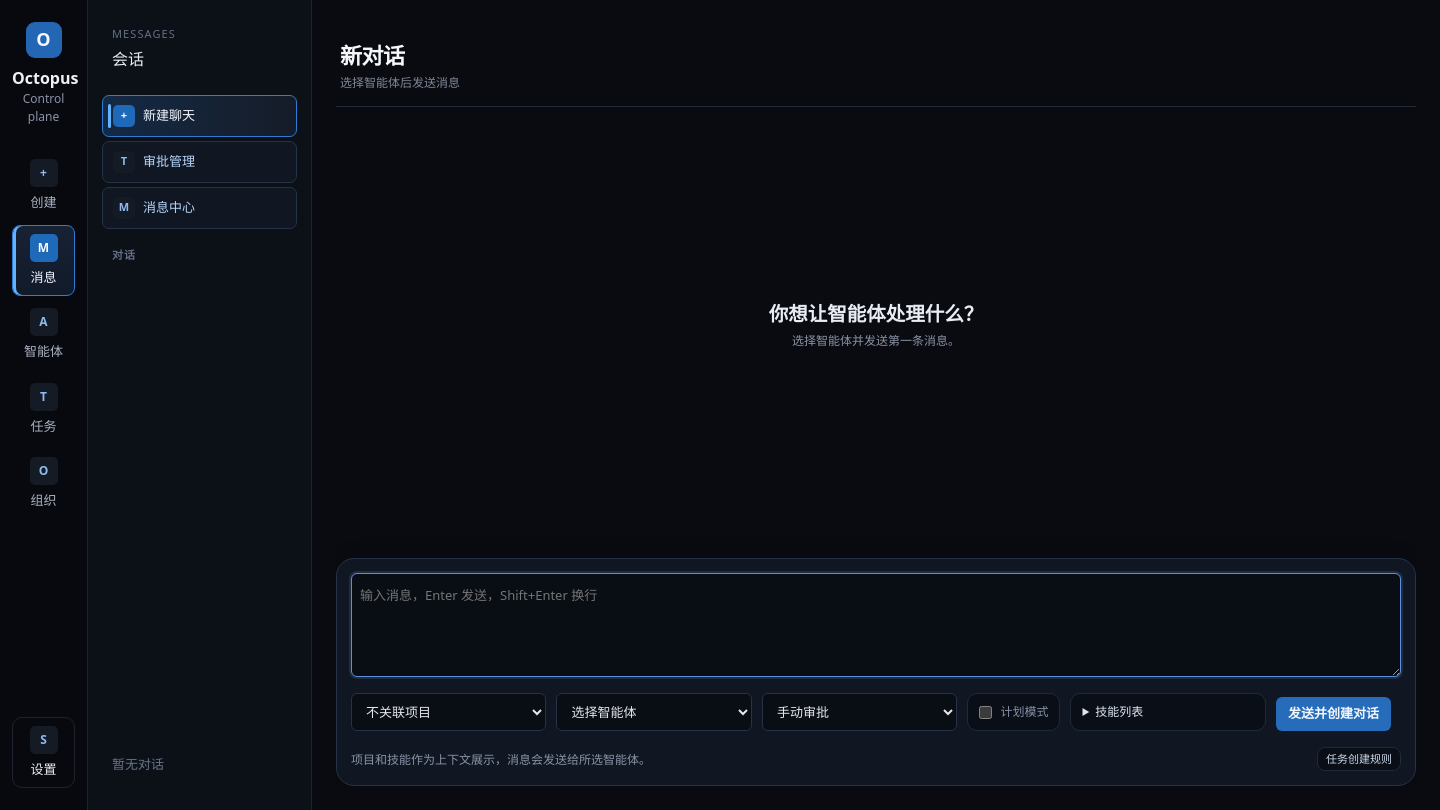
Test: opens the cached created conversation when the first reply fails and detail reload errors
Select "Builder (工程)" in the dropdown named "对话智能体" at (654, 712), box x1=556 y1=693 x2=752 y2=731
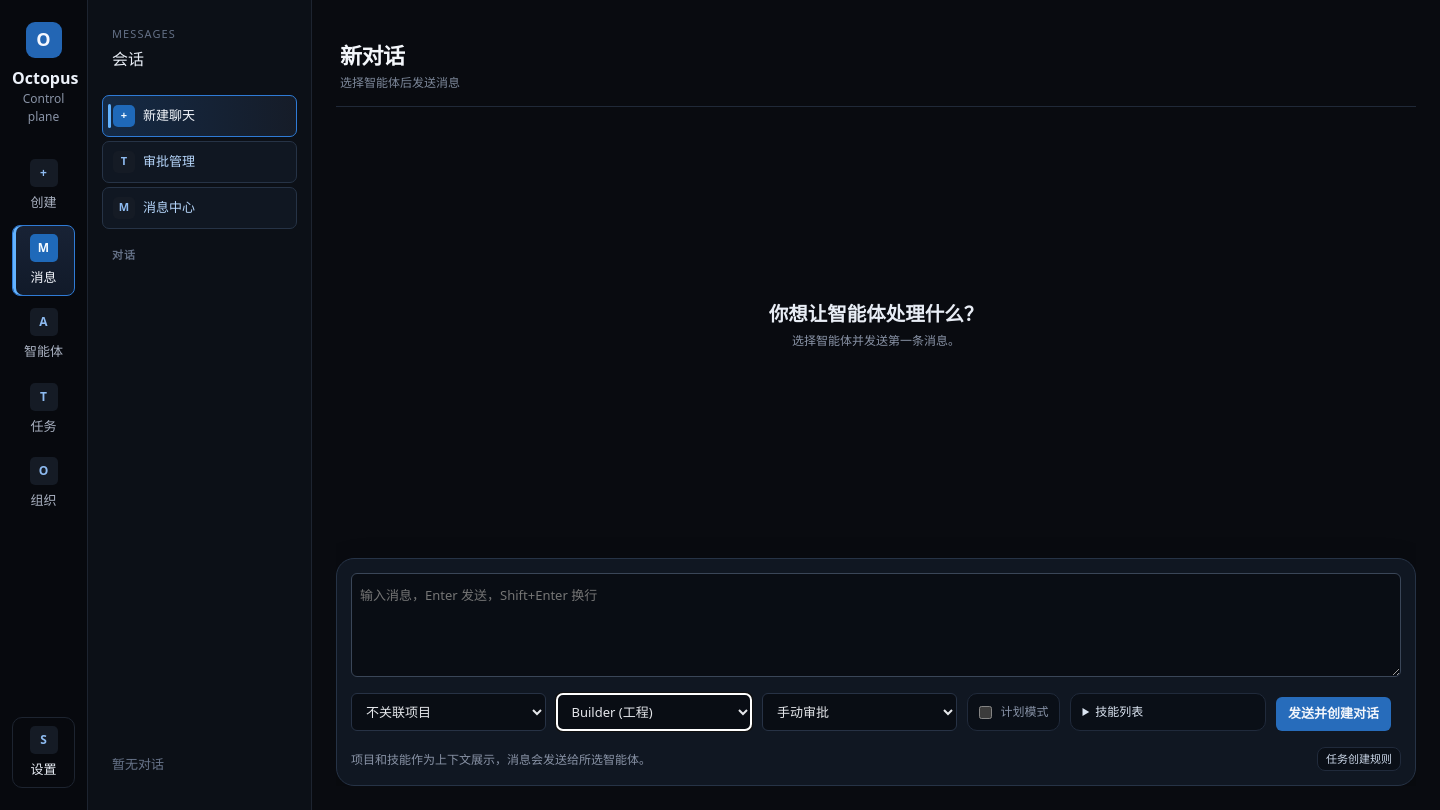
Type "请规划部署" into the text box named "消息输入" at (876, 625), box x1=351 y1=573 x2=1401 y2=677
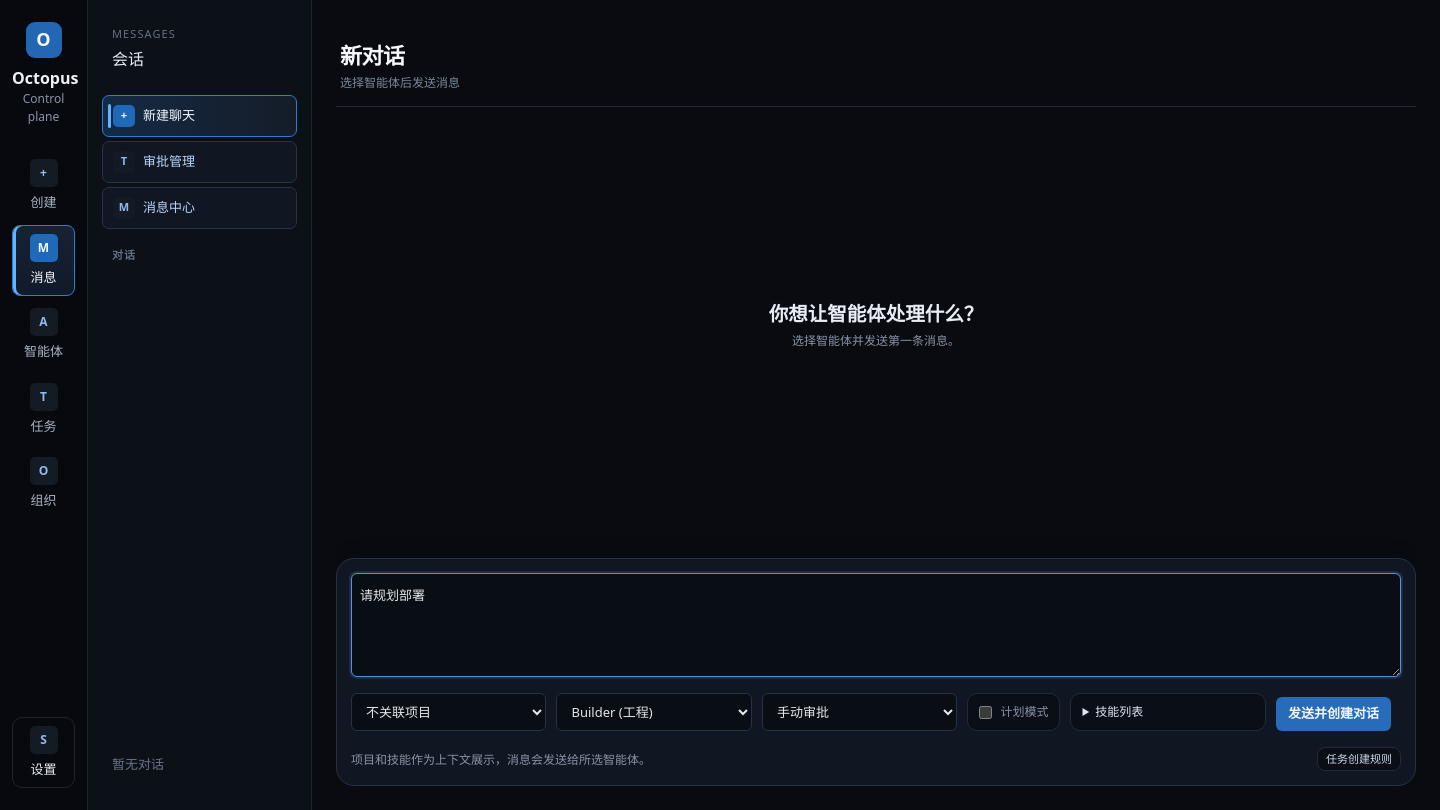
Click the button "发送并创建对话" at (1334, 714), box x1=1276 y1=697 x2=1391 y2=731
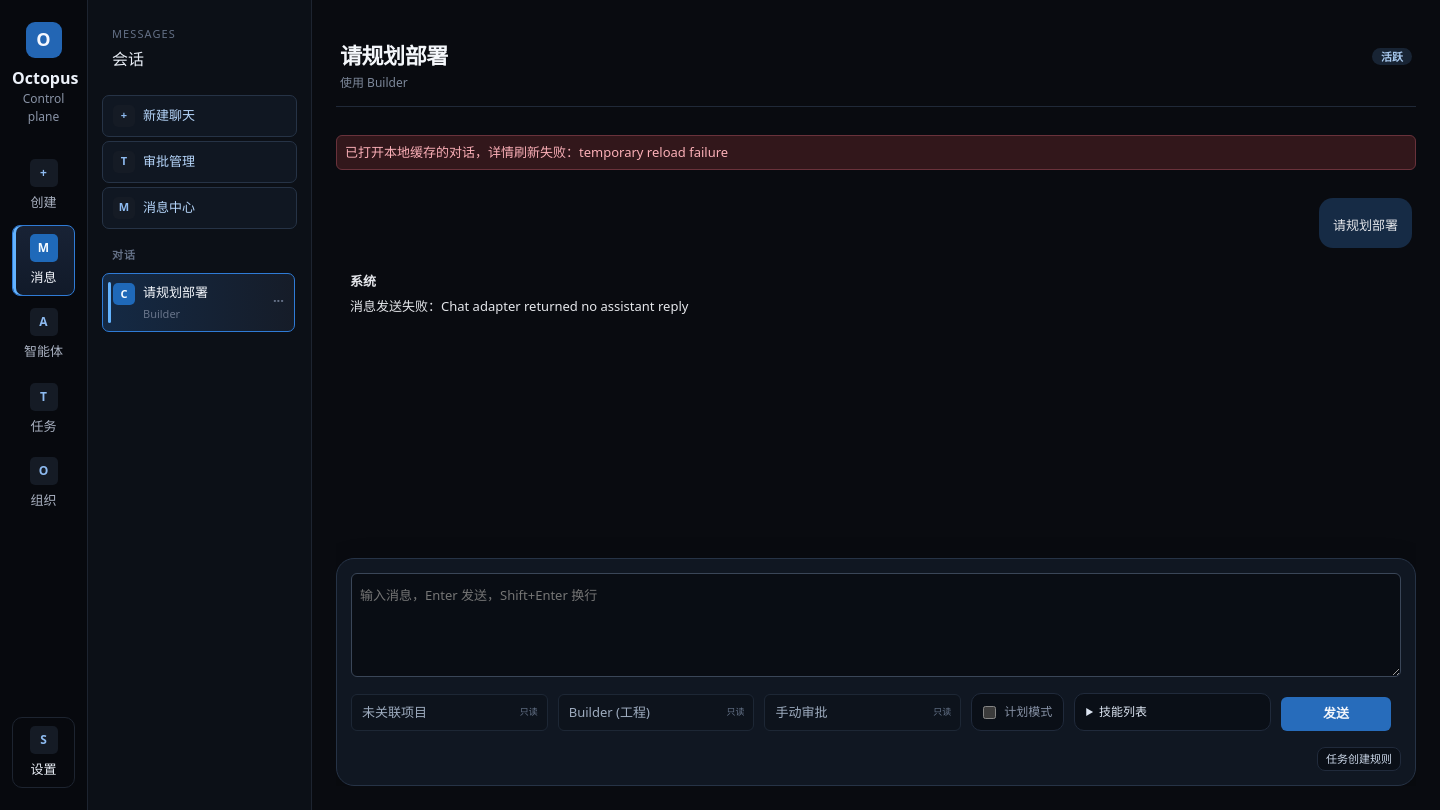
expect the heading "请规划部署" is shown: met, box x1=340 y1=42 x2=448 y2=70
expect the text "已打开本地缓存的对话，详情刷新失败：temporary reload failure" is shown: met, box x1=336 y1=134 x2=1416 y2=170
expect the text "请规划部署" below "活跃" is shown: met, box x1=1333 y1=216 x2=1398 y2=234
